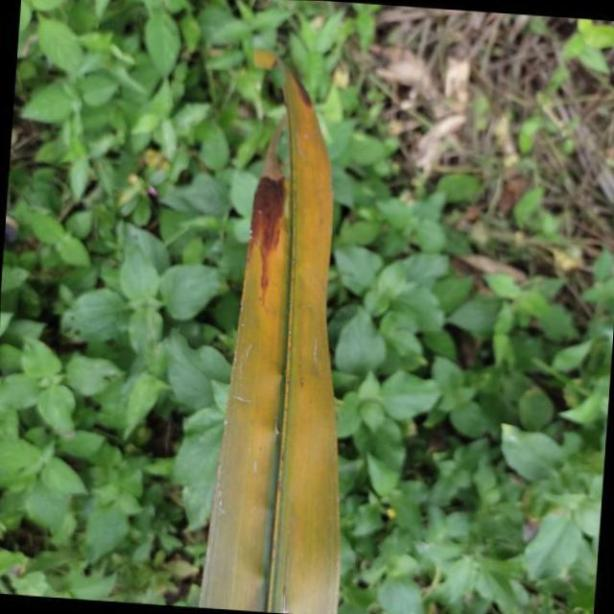Megnesium: (193, 36, 343, 614)
